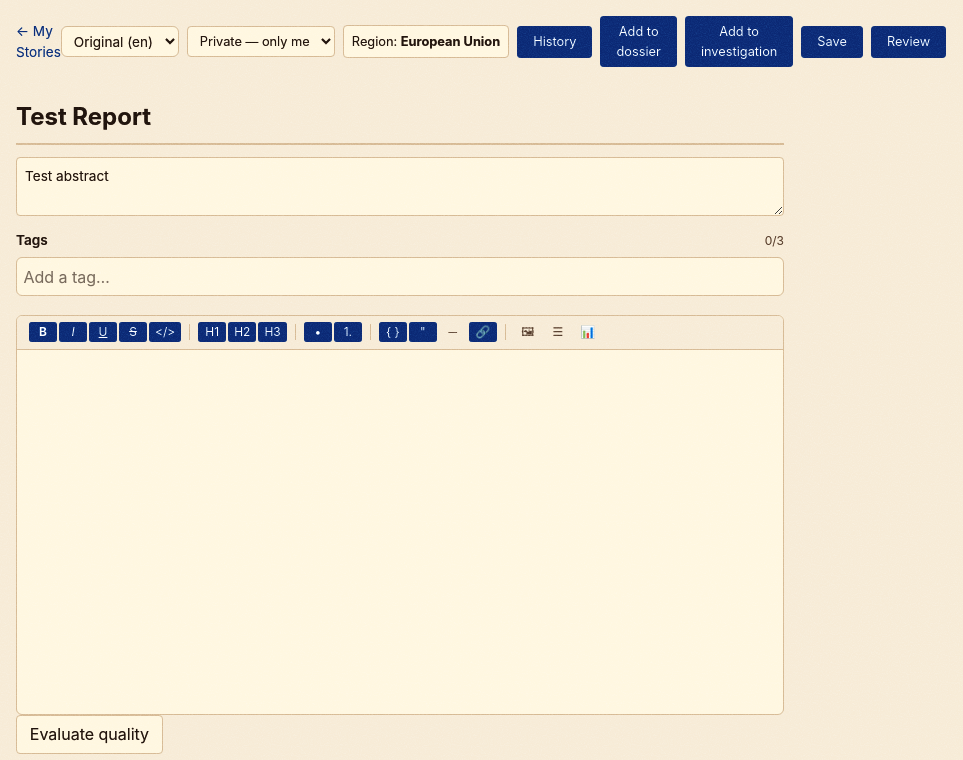
Test: ReportEditorView — a document that moved on › warns instead of overwriting, and keeps the unsaved buffer
Click the button with test id "review-story" at x=909, y=42, box [871,26,946,58]
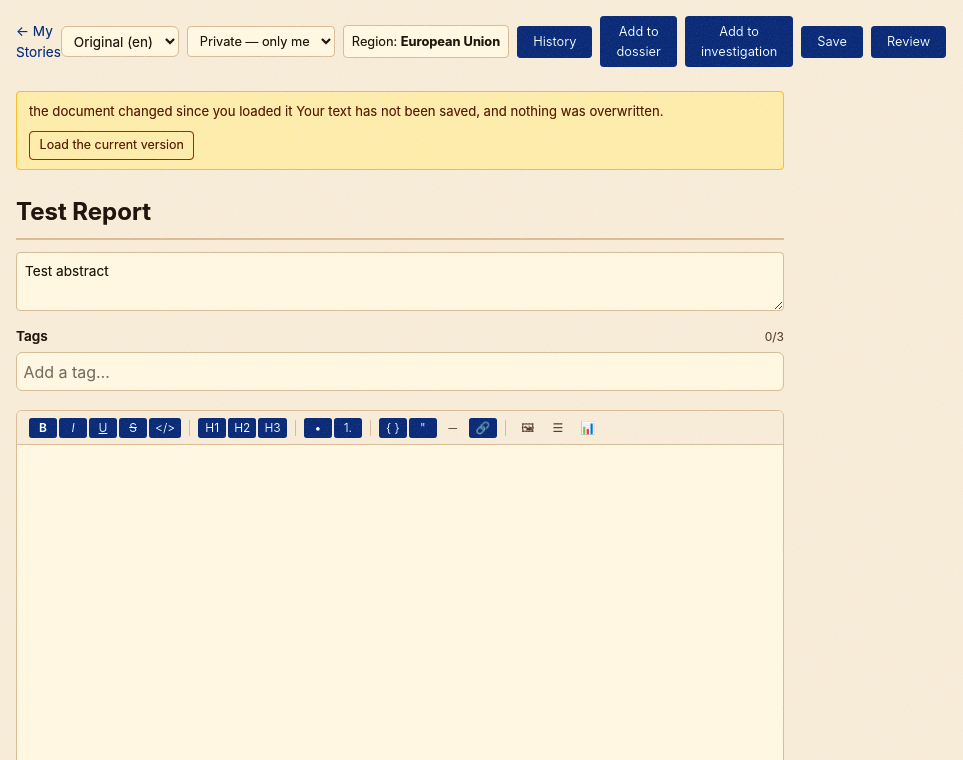
Now the element with test id "editor-stale" is shown, box [16,91,784,170]
Now the element with test id "editor-stale" shows "changed", box [29,103,663,119]
Now the button with test id "editor-stale-reload" is shown, box [29,131,194,160]
